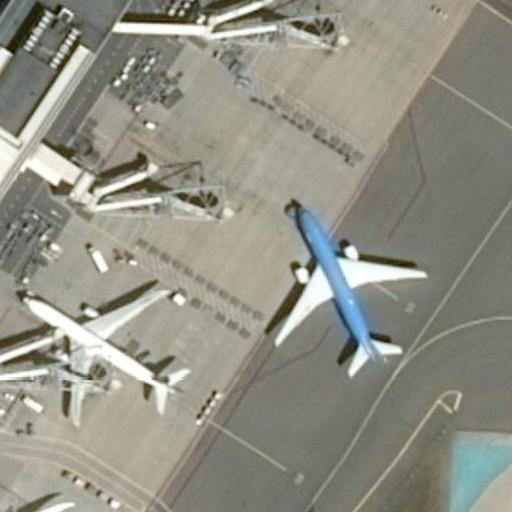Aircraft: (273, 204, 427, 378), (12, 282, 185, 427), (0, 497, 90, 512)
